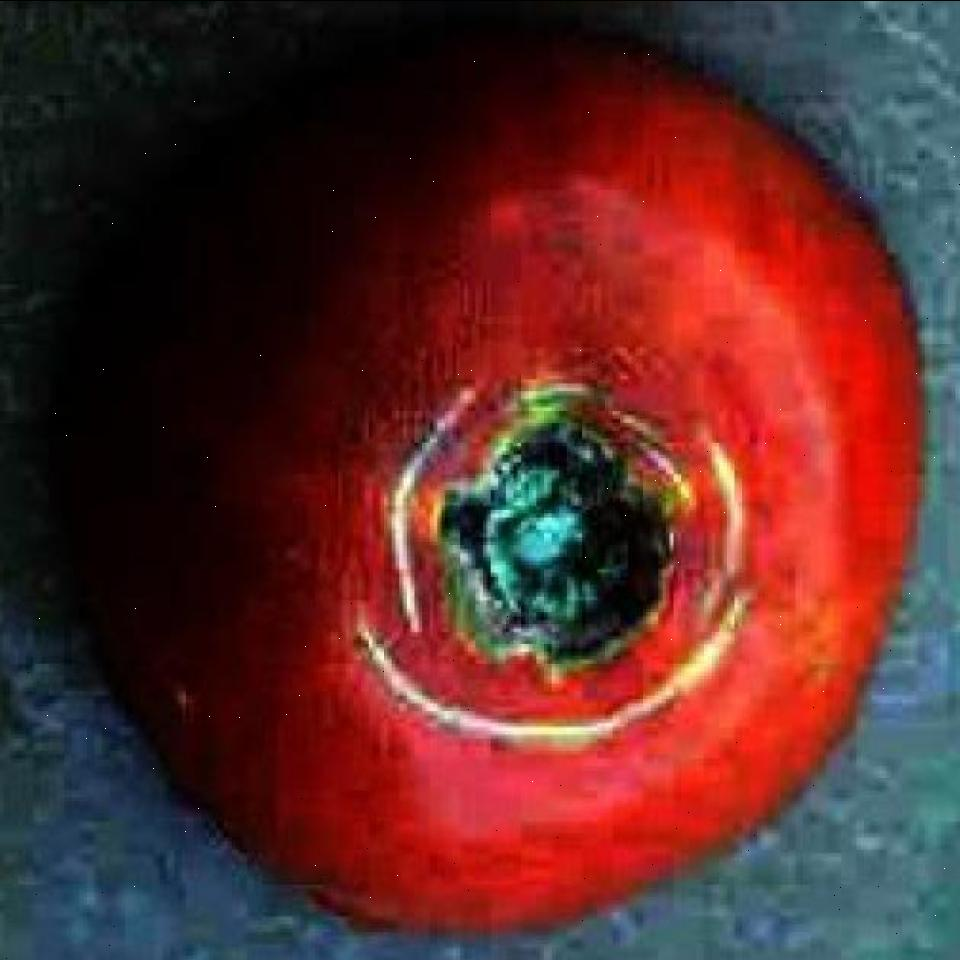Blossom_end_rot: (449, 393, 682, 652)
